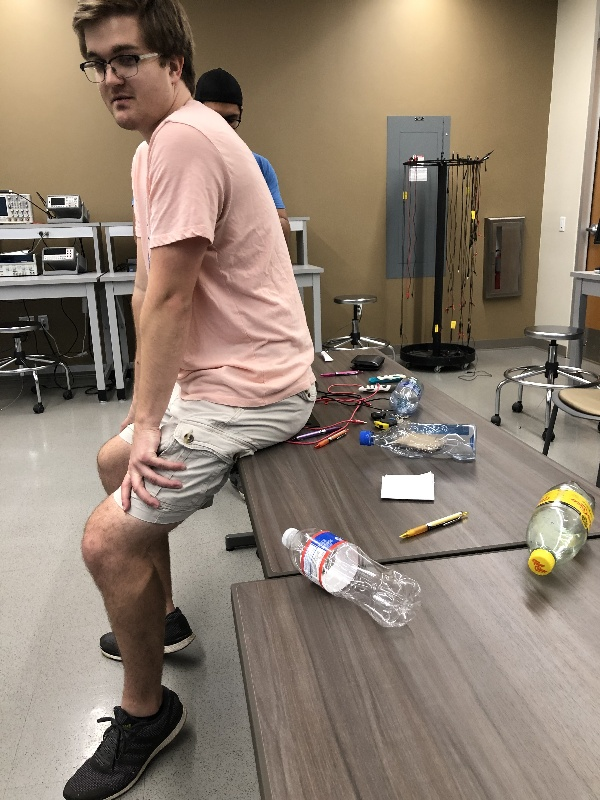bottle: (274, 525, 427, 636), (522, 477, 596, 580), (350, 420, 482, 467), (390, 370, 427, 419)
